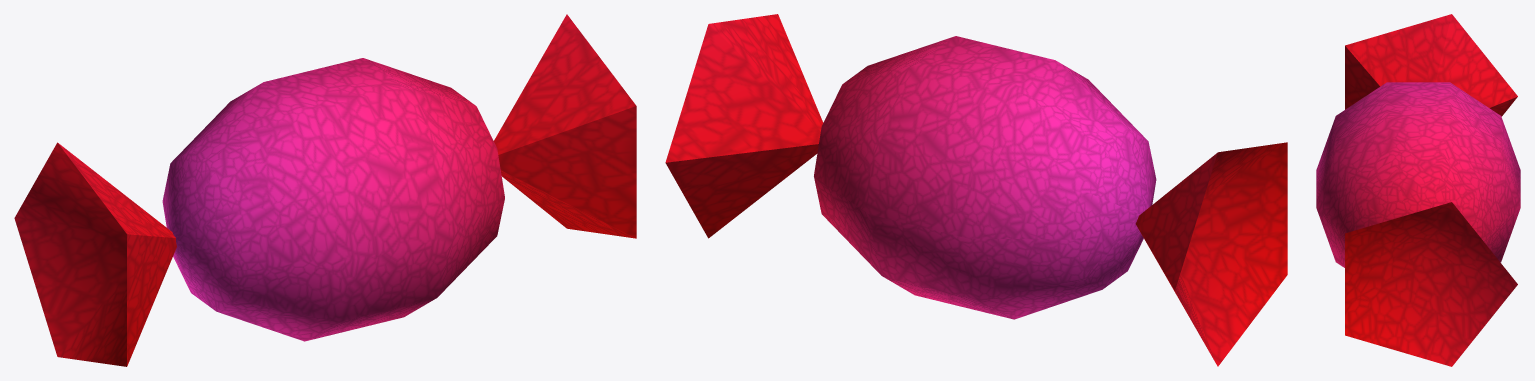
The model's file is Candy.fbx.
The picture shows the model from 3 angles, left to right: view 1: azimuth 30°, elevation 25°; view 2: azimuth 150°, elevation 25°; view 3: azimuth 270°, elevation 25°; orthographic projection. The views are drawn at different scales.
Visible parts, largest first — view 1: candy1; view 2: candy1; view 3: candy1.
Boxes of the visible parts, x1,y1,x2,y2 form: candy1: (14, 14, 636, 366); candy1: (665, 14, 1287, 366); candy1: (1316, 14, 1520, 366).
Size of the model in its own units: 15.42 by 6.63 by 6.97.
1 material, 1 textured.
